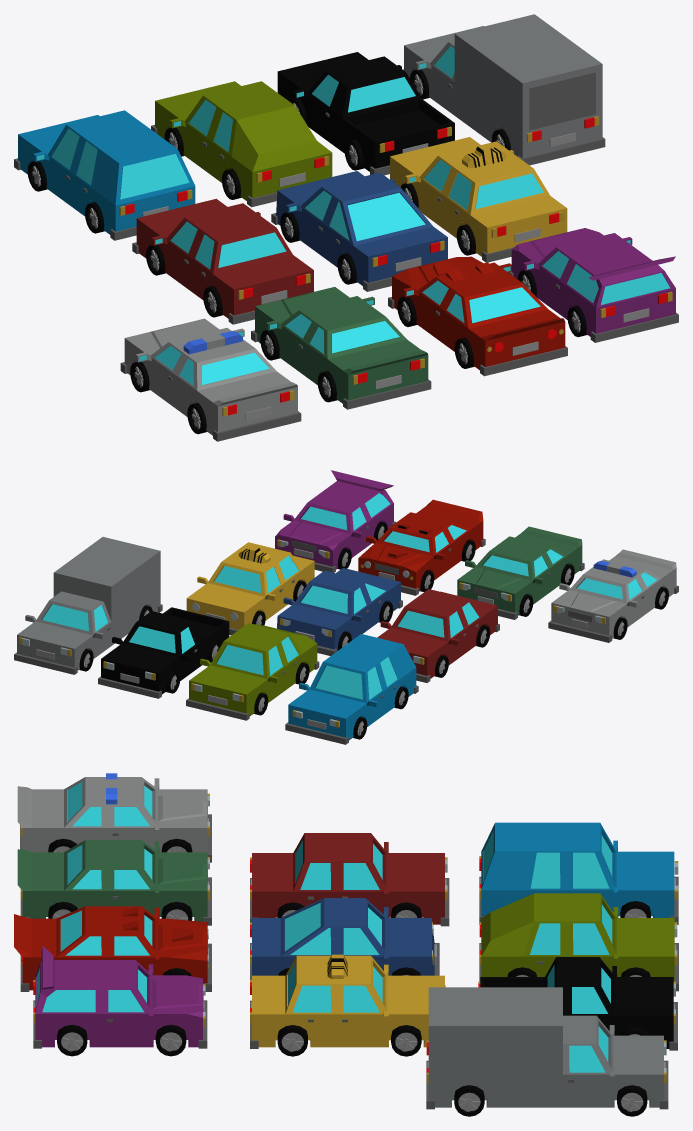
File: Cars.fbx
3 views of the same model, one above another, from view 1: azimuth 30°, elevation 25°; view 2: azimuth 150°, elevation 25°; view 3: azimuth 270°, elevation 25° (orthographic). The views are drawn at different scales.
Visible parts, largest first — view 1: Car.009, Car.001, Car.007, Car.006, Car.010, Car, Car.003, Car.004, Car.005, Car.002, Car.008; view 2: Car.009, Car.001, Car.007, Car.010, Car.008, Car.005, Car.004, Car.003, Car.006, Car.002, Car; view 3: Car.009, Car.001, Car.006, Car.005, Car.007, Car, Car.003, Car.010, Car.004, Car.002, Car.008, FrontW_R.006 (+5 smaller).
Part boxes in pixels (x1,y1,x2,y2): Car.009: [403, 14, 605, 165]; Car.001: [14, 110, 195, 240]; Car.007: [151, 81, 332, 207]; Car.006: [390, 137, 567, 262]; Car.010: [120, 318, 301, 441]; Car: [132, 198, 313, 324]; Car.003: [251, 287, 431, 409]; Car.004: [388, 256, 567, 376]; Car.005: [508, 228, 678, 342]; Car.002: [271, 171, 447, 291]; Car.008: [277, 52, 454, 175]; Car.009: [14, 537, 162, 674]; Car.001: [285, 634, 418, 744]; Car.007: [186, 623, 319, 720]; Car.010: [548, 549, 678, 642]; Car.008: [98, 607, 229, 698]; Car.005: [275, 470, 396, 572]; Car.004: [358, 499, 485, 595]; Car.003: [457, 526, 584, 619]; Car.006: [186, 542, 314, 635]; Car.002: [277, 568, 402, 655]; Car: [377, 589, 499, 682]; Car.009: [426, 987, 668, 1109]; Car.001: [479, 822, 678, 924]; Car.006: [250, 954, 445, 1048]; Car.005: [33, 946, 207, 1048]; Car.007: [479, 893, 678, 991]; Car: [250, 833, 449, 926]; Car.003: [17, 840, 211, 925]; Car.010: [17, 773, 211, 862]; Car.004: [14, 906, 211, 991]; Car.002: [250, 898, 439, 979]; Car.008: [478, 957, 677, 1050]; FrontW_R.006: [155, 1025, 186, 1056].
Size of the model in its own units: 2775 by 389 by 2617.
